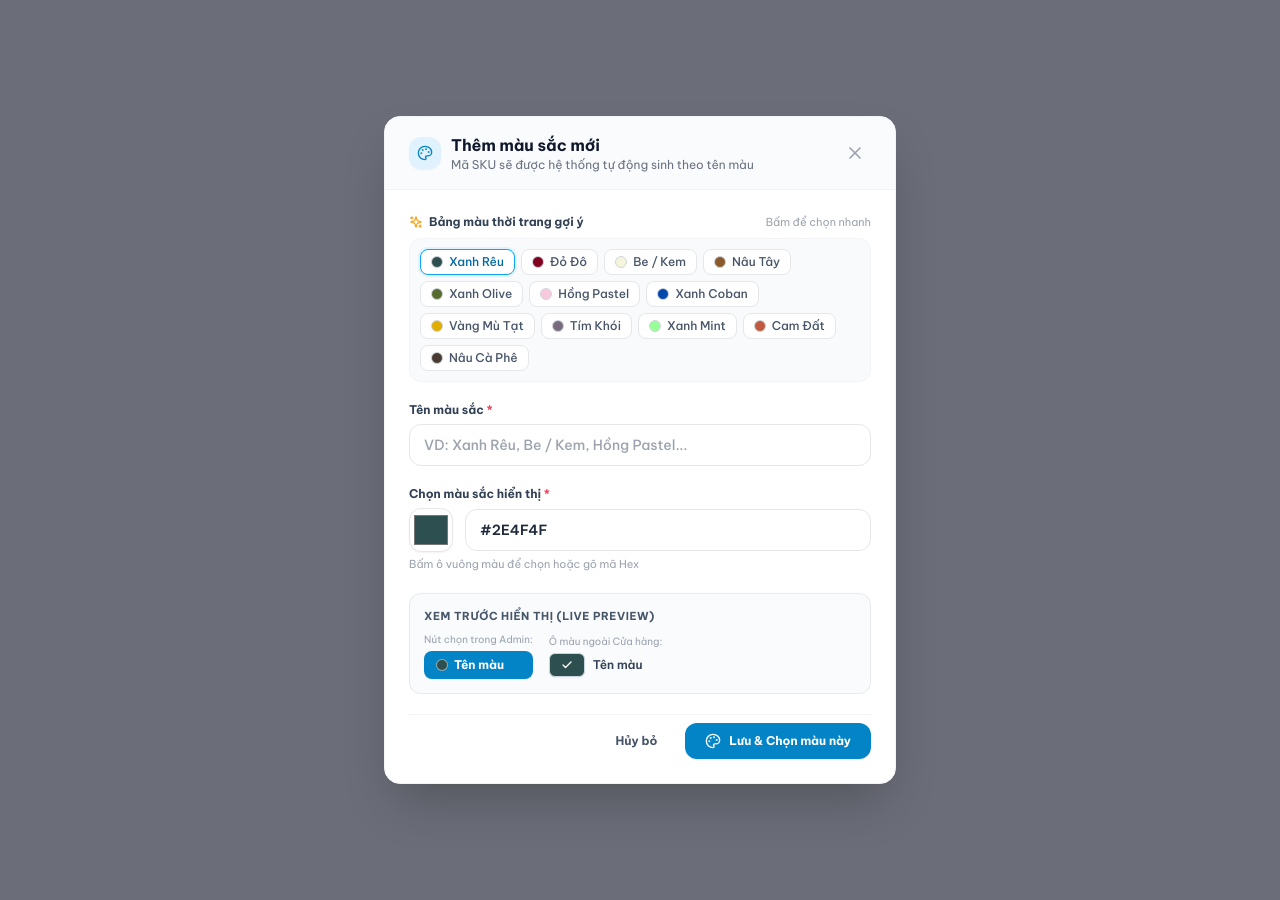
Test: QuickAddColorModal Component › Tự động gợi ý mã SKU khi nhập tên màu
Type "Xanh Rêu" into the field with placeholder "VD: Xanh Rêu, Be / Kem, Hồng Pastel..." at [640, 445], box [409,424,871,466]
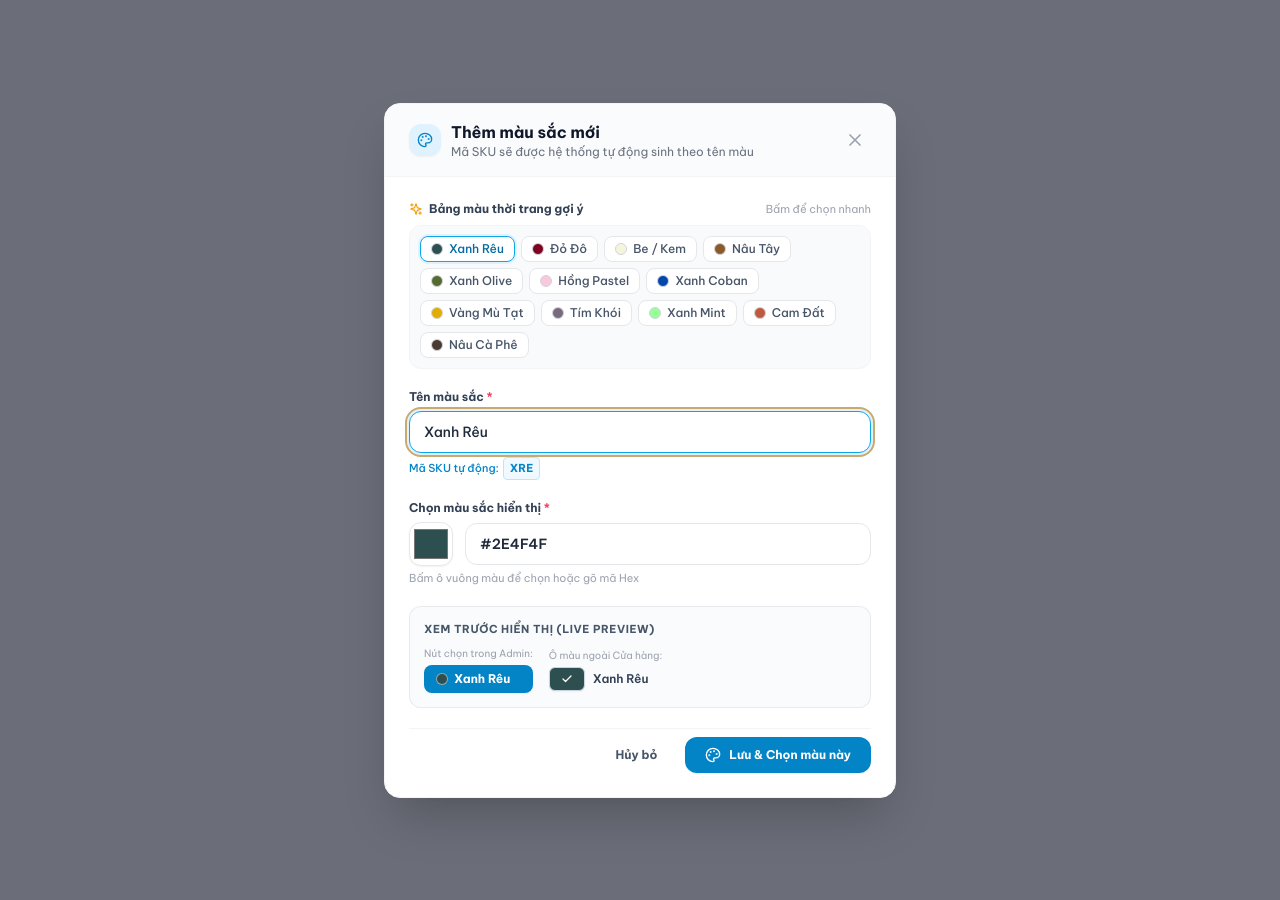
Result: the text "XRE" is shown at [503,457,540,480]
